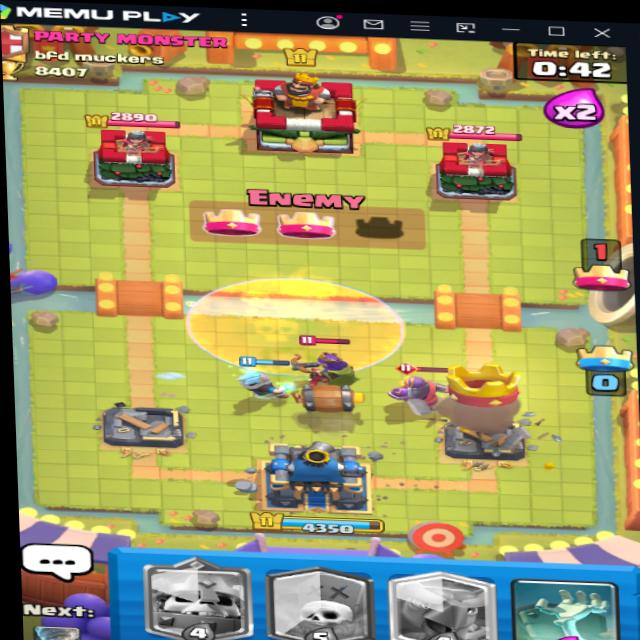EvoKnight: (371, 353, 473, 416)
Queen: (300, 333, 358, 391)
